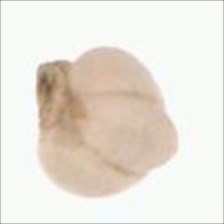L5: (72, 91, 181, 179), (35, 58, 75, 139)
L6: (34, 45, 181, 198)
